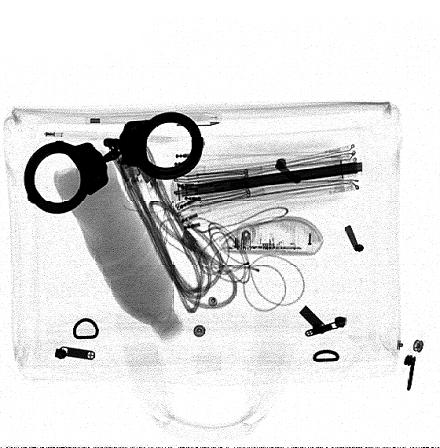HandCuffs: (24, 111, 204, 214)
